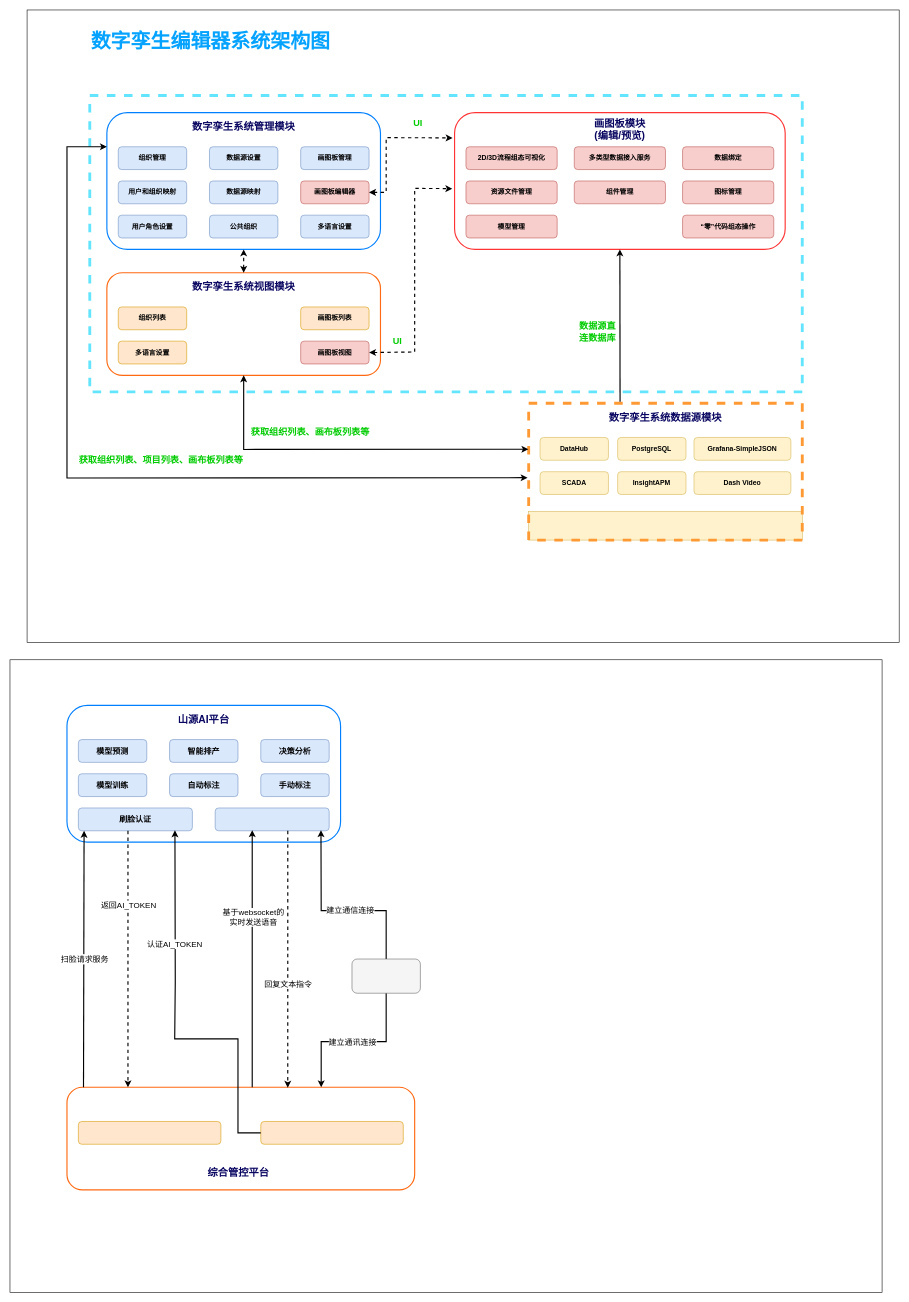
This 909x1302 diagram has some shape labels left out. The centre of each missing label's shape, as x and y in pixels:
CRM、MES、ERP系统、人员定位系统等数据: (665,525)
Server: (331,1132)
WEB: (149,1132)
唤醒词: (385,975)
语音识别: (272,819)
